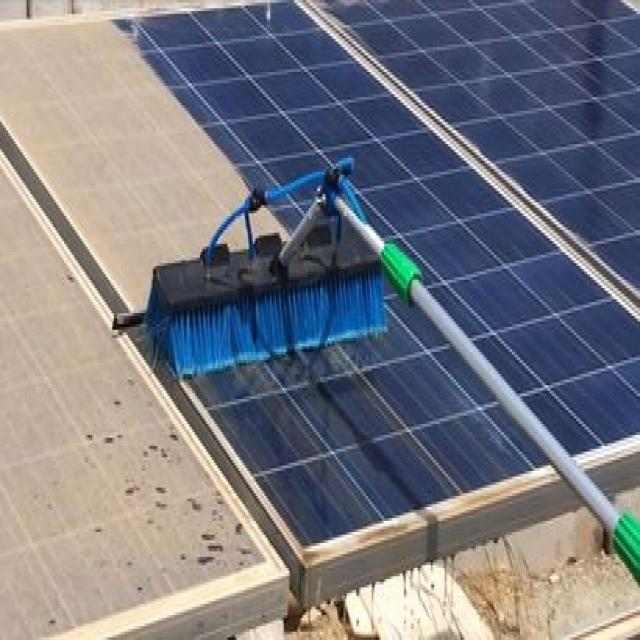dust-solar-panel: (0, 19, 291, 640)
